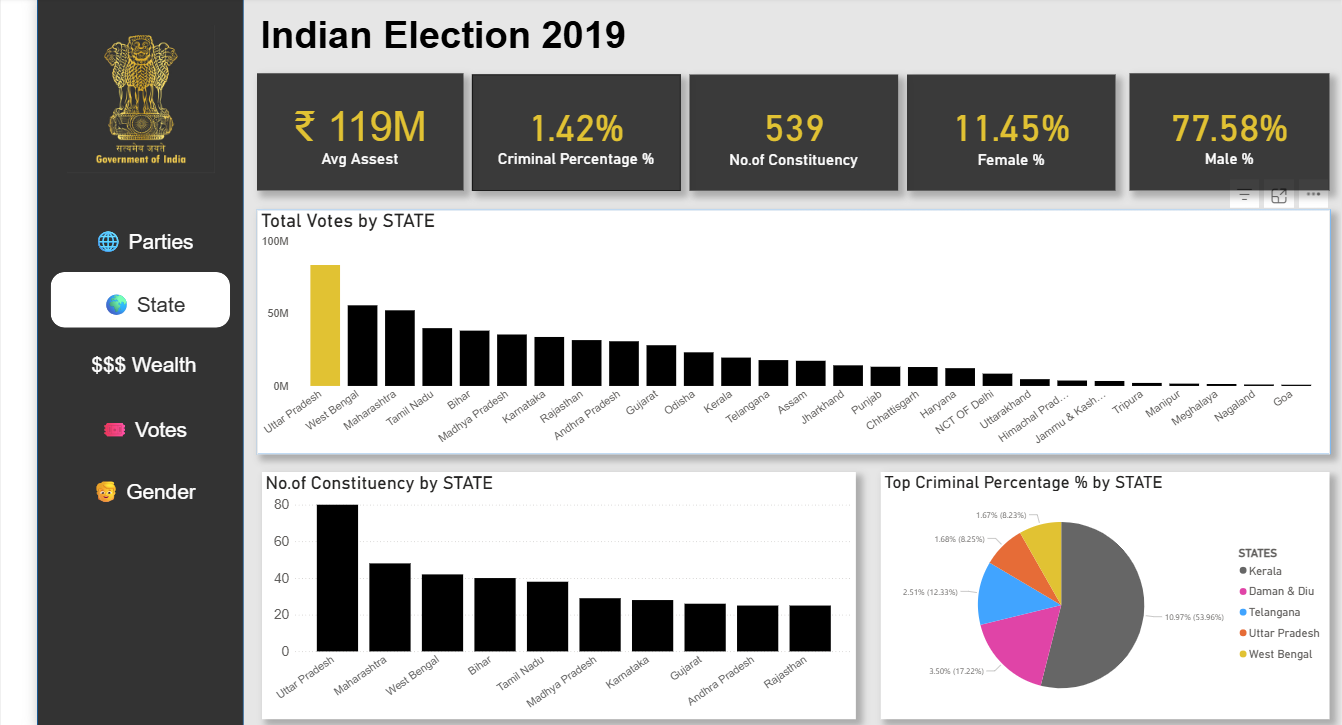

What the dashboard file says about the page in this screenshot:
{"tool":"powerbi","page":{"name":"🌍    State","canvas":[1920,1080],"ordinal":1},"visuals":[{"type":"pieChart","title":"Top Criminal Percentage % by STATE","fields":{"Category":["Election_2019.STATE"],"Y":["Election_2019.Criminal Percentage %"]},"box":[1243.2,699.8,660.7,364.3],"z":1},{"type":"clusteredColumnChart","fields":{"Y":["Election_2019.No.of Constituency"],"Category":["Election_2019.STATE"]},"box":[331.4,699.8,874.8,364.3],"z":3},{"type":"clusteredColumnChart","fields":{"Y":["Election_2019.Total Votes"],"Category":["Election_2019.STATE"]},"box":[323.2,312.9,1580.8,360.2],"z":4},{"type":"shape","box":[0,0,304.1,1080.4],"z":5},{"type":"pageNavigator","box":[20.5,313.5,265,451.6],"z":6},{"type":"image","box":[20.5,37.3,265,227.6],"z":7},{"type":"textbox","box":[323.9,18.4,577.9,95.7],"z":8},{"type":"card","fields":{"Values":["Election_2019.Avg Assest"]},"box":[323.9,112.3,303.7,173],"z":9},{"type":"card","fields":{"Values":["Election_2019.Criminal Percentage %"]},"box":[640.5,114.1,307.4,171.2],"z":10},{"type":"card","fields":{"Values":["Election_2019.No.of Constituency"]},"box":[960.7,114.1,307.4,171.2],"z":11},{"type":"card","fields":{"Values":["Election_2019.Female %"]},"box":[1281,114.1,307.4,171.2],"z":12},{"type":"card","fields":{"Values":["Election_2019.Male %"]},"box":[1608.6,112.3,294.5,173],"z":13}]}

Visuals, with their boxes on the page's 1920x1080 design canvas (x1, y1, x2, y2). These are canvas units, not pixel positions in the 1342x725 screenshot, which may show the page scaled, cropped or inside an application window:
"Top Criminal Percentage % by STATE" pieChart: x1=1243 y1=700 x2=1904 y2=1064
clusteredColumnChart - Election_2019.No.of Constituency x Election_2019.STATE: x1=331 y1=700 x2=1206 y2=1064
clusteredColumnChart - Election_2019.Total Votes x Election_2019.STATE: x1=323 y1=313 x2=1904 y2=673
shape: x1=0 y1=0 x2=304 y2=1080
pageNavigator: x1=20 y1=314 x2=286 y2=765
image: x1=20 y1=37 x2=286 y2=265
textbox: x1=324 y1=18 x2=902 y2=114
card - Election_2019.Avg Assest: x1=324 y1=112 x2=628 y2=285
card - Election_2019.Criminal Percentage %: x1=640 y1=114 x2=948 y2=285
card - Election_2019.No.of Constituency: x1=961 y1=114 x2=1268 y2=285
card - Election_2019.Female %: x1=1281 y1=114 x2=1588 y2=285
card - Election_2019.Male %: x1=1609 y1=112 x2=1903 y2=285
